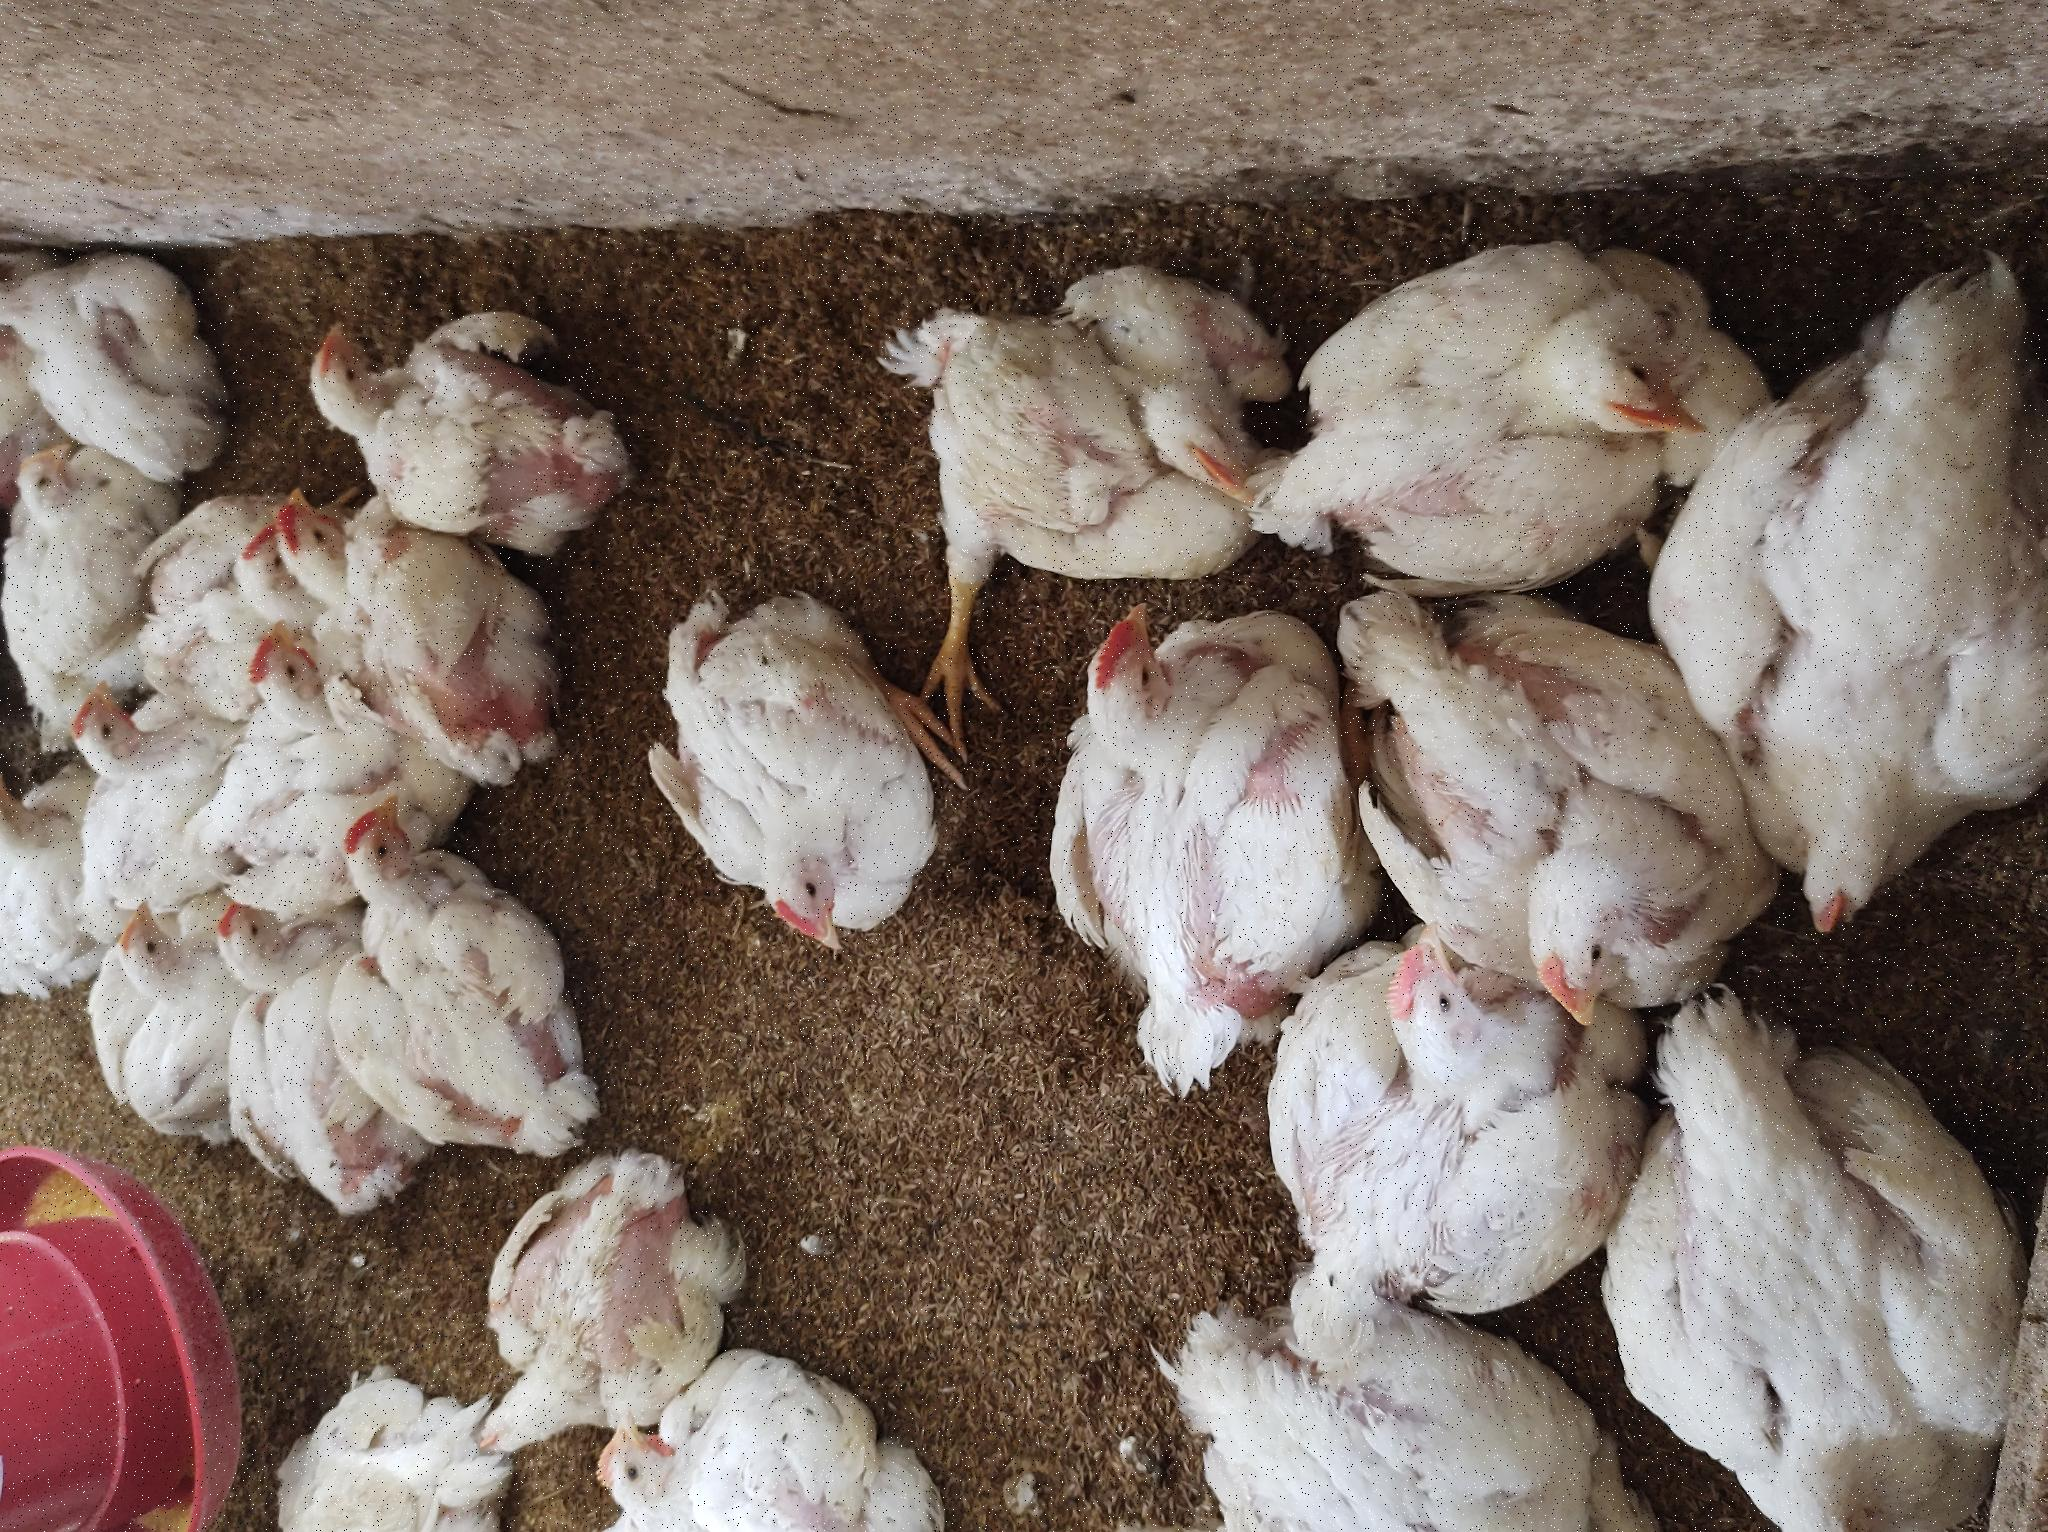Pollos: (487, 1043, 946, 1329), (933, 912, 1319, 1249), (561, 669, 938, 990), (228, 1249, 587, 1532), (383, 335, 742, 610), (2, 1141, 245, 1532), (524, 1349, 999, 1532), (960, 1303, 1310, 1532), (997, 301, 1231, 629), (2, 594, 201, 957), (97, 476, 393, 719), (1057, 2, 1274, 237), (2, 270, 179, 523), (364, 214, 668, 360), (907, 3, 1105, 159), (409, 119, 639, 227), (697, 64, 859, 204), (893, 270, 1054, 402), (779, 241, 922, 332), (912, 203, 1017, 314)
